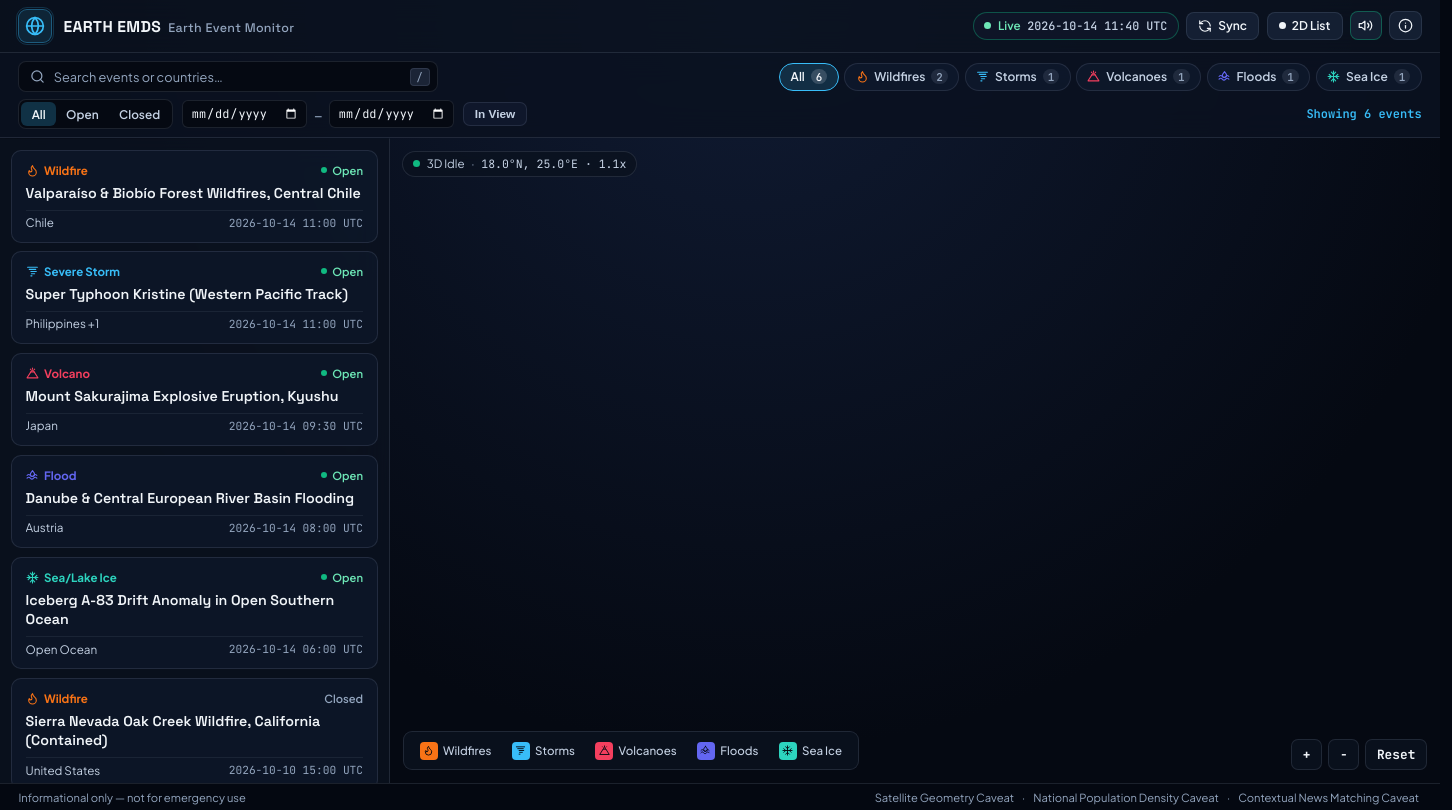
Test: EARTH EMDS Frontend Application & Components › filters events deterministically by category, status, and search query
Check: the text with test id "showing-events-count" reads "Showing 6 events", box [1306,106,1422,122]
# Filter by Wildfires category
Click the button with test id "category-filter-wildfires" at (902, 77), box [844,63,959,90]
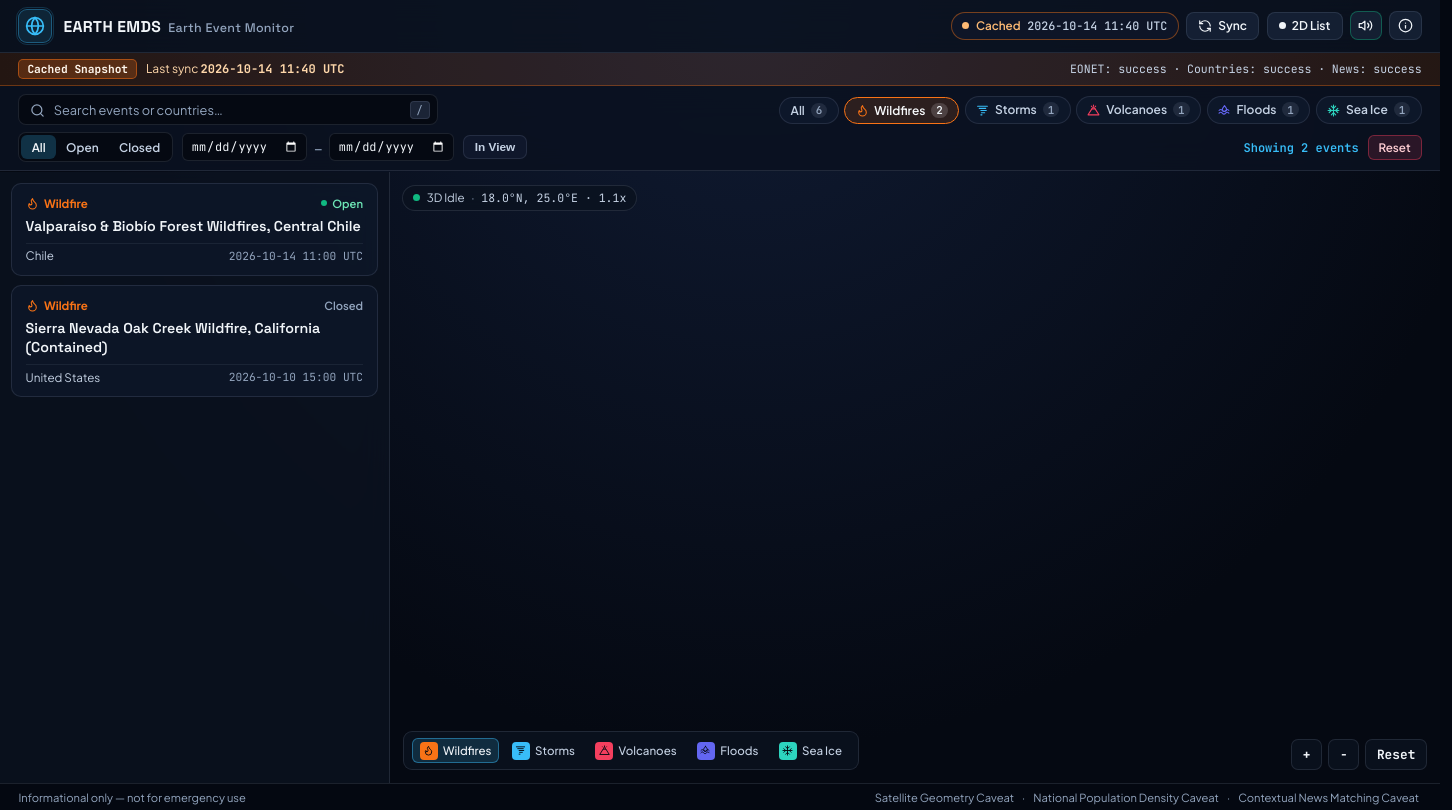
Check: the text with test id "showing-events-count" reads "Showing 2 events", box [1244,140,1359,156]
# Filter by Open status only
Click the button with test id "status-filter-open" at (82, 148), box [56,136,109,159]
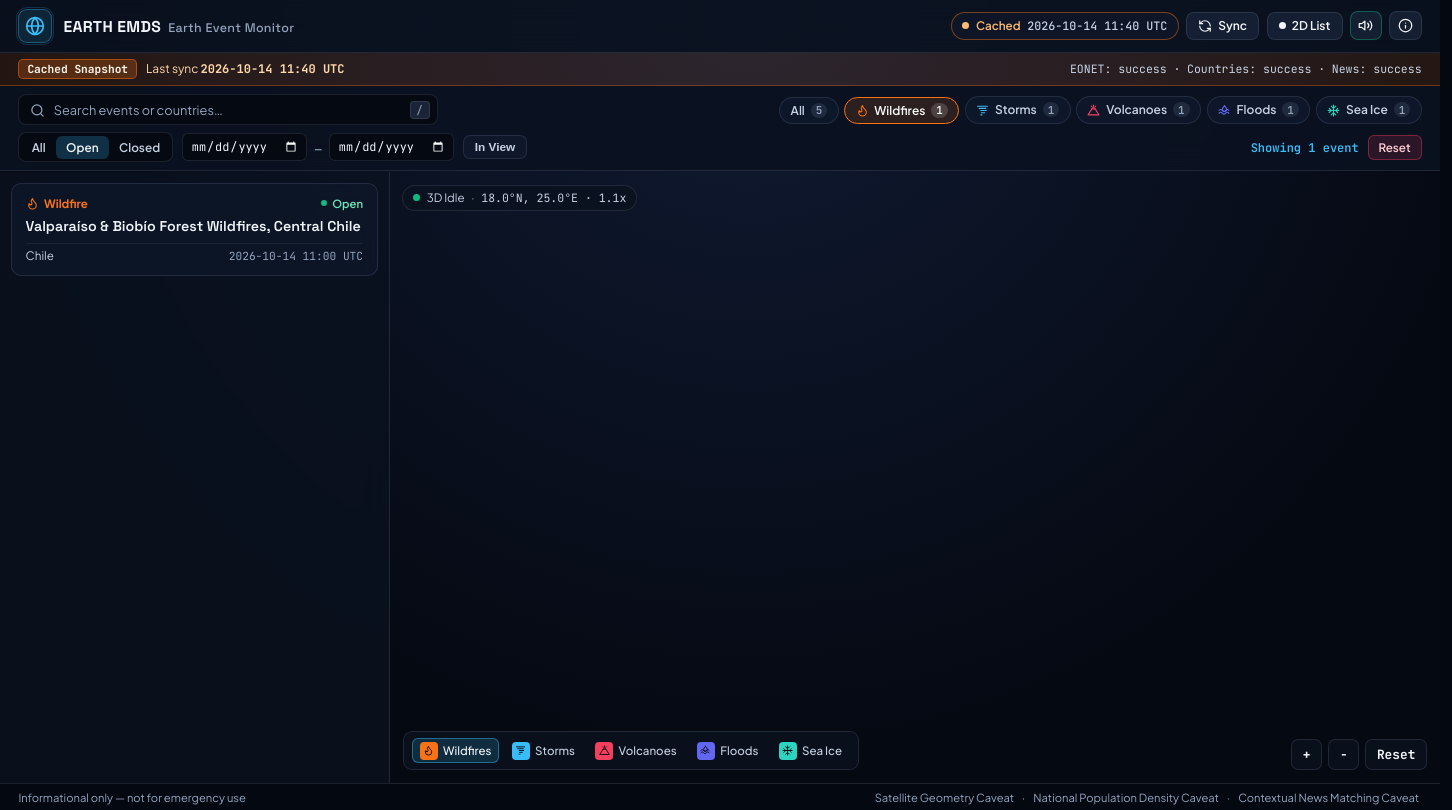
Check: the heading "Valparaíso & Biobío Forest Wildfires, Central Chile" is shown, box [26,218,363,237]
Check: the text with test id "showing-events-count" reads "Showing 1 event", box [1251,140,1359,156]
# Reset status to all
Click the button with test id "status-filter-all" at (39, 148), box [21,136,56,159]
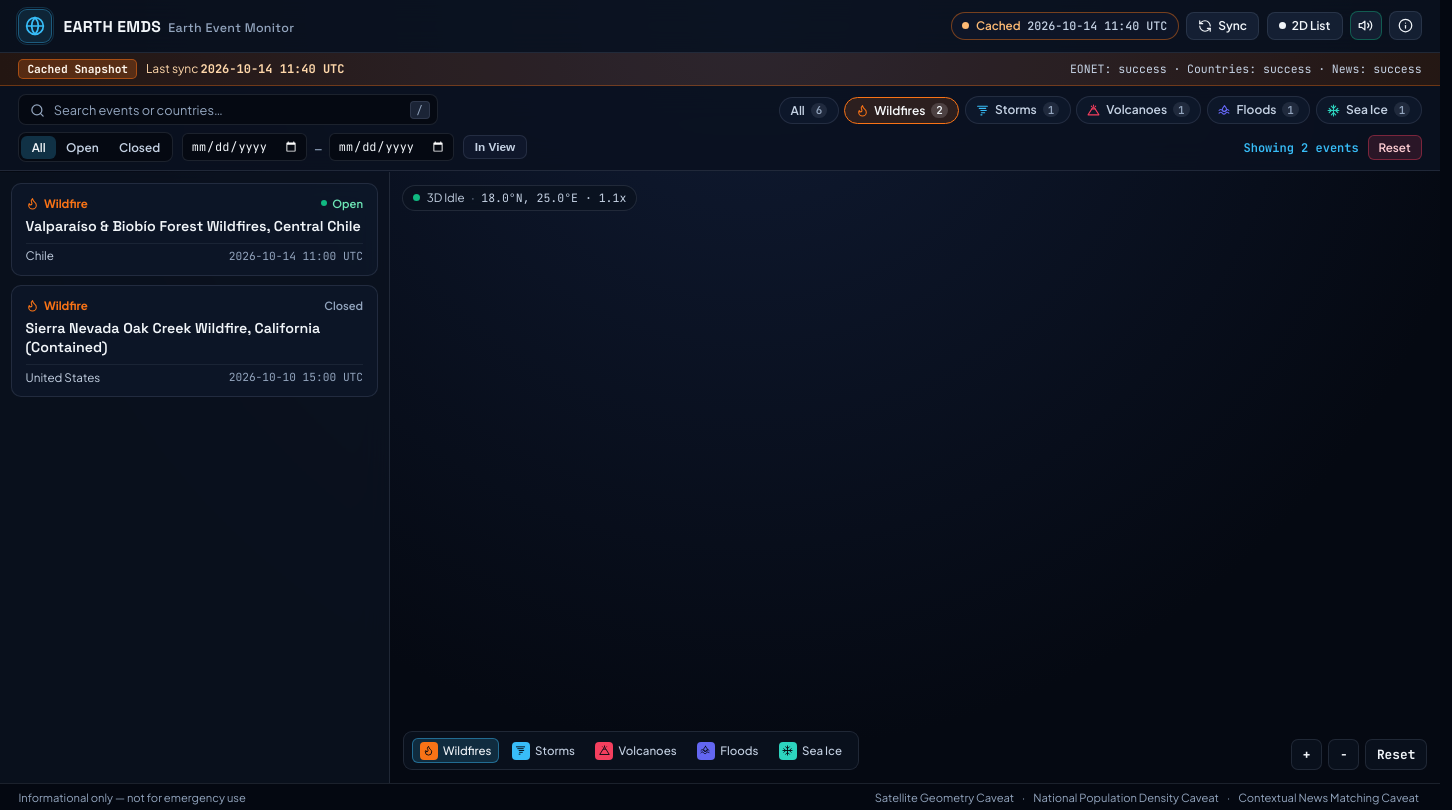
# Filter by Severe Storms category
Click the button with test id "category-filter-severeStorms" at (1018, 110), box [965,97,1070,124]
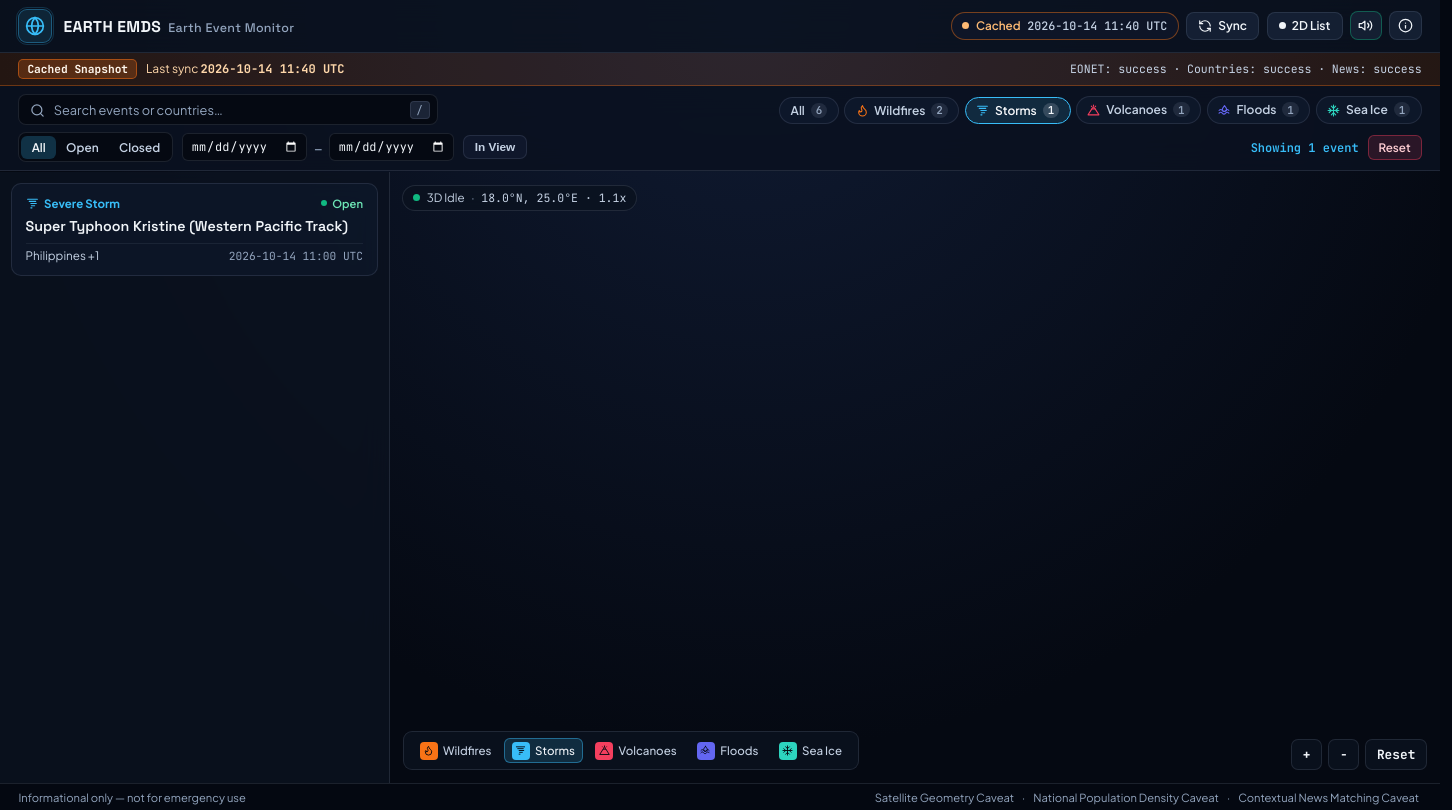
Check: the text with test id "showing-events-count" reads "Showing 1 event", box [1251,140,1359,156]
Check: the heading "Super Typhoon Kristine (Western Pacific Track)" is shown, box [26,218,363,237]
# Filter by Sea & Lake Ice category
Click the button with test id "category-filter-seaLakeIce" at (1369, 110), box [1316,97,1422,124]
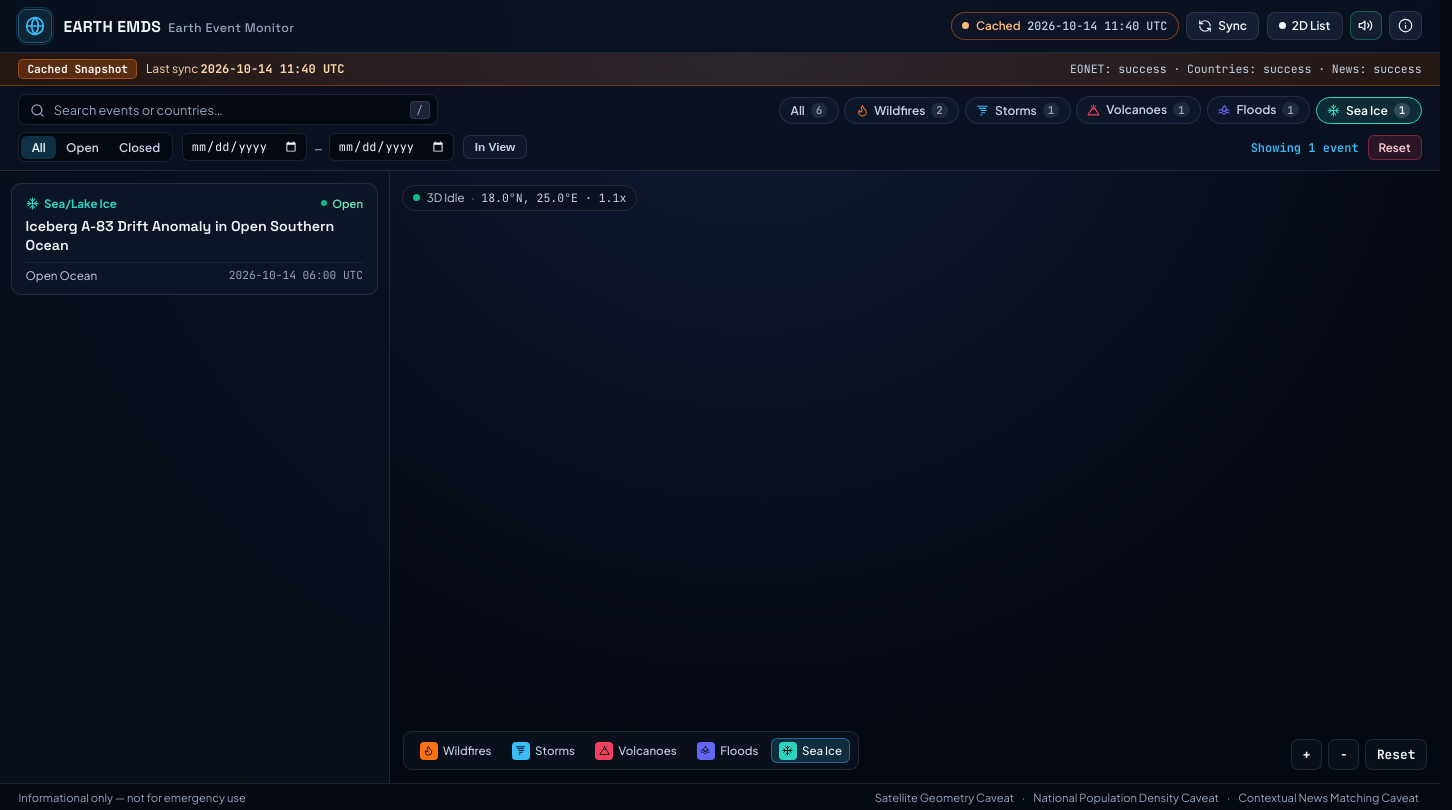
Check: the text with test id "showing-events-count" reads "Showing 1 event", box [1251,140,1359,156]
Check: the heading "Iceberg A-83 Drift Anomaly in Open Southern Ocean" is shown, box [26,218,363,256]
